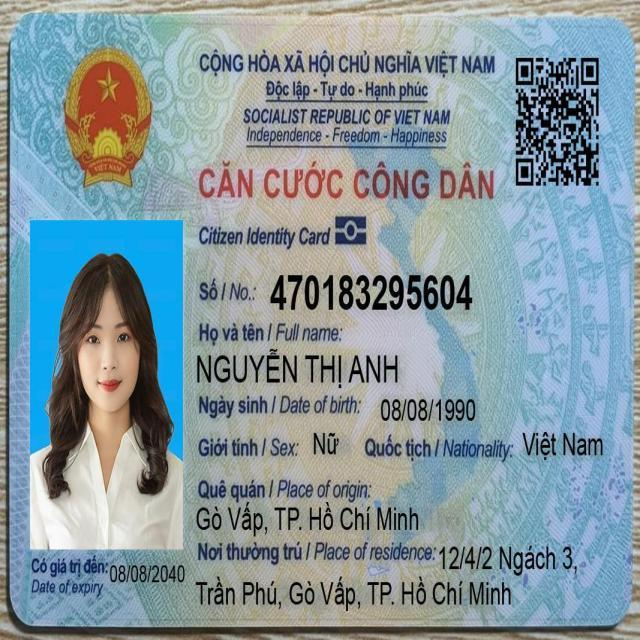current_place: (193, 572, 514, 613), (437, 540, 579, 579)
dob: (379, 395, 478, 425)
expire_date: (108, 560, 187, 587)
gender: (310, 427, 341, 460)
id: (267, 267, 475, 317)
name: (194, 344, 402, 391)
nationality: (520, 427, 605, 464)
origin_place: (195, 499, 421, 540)
